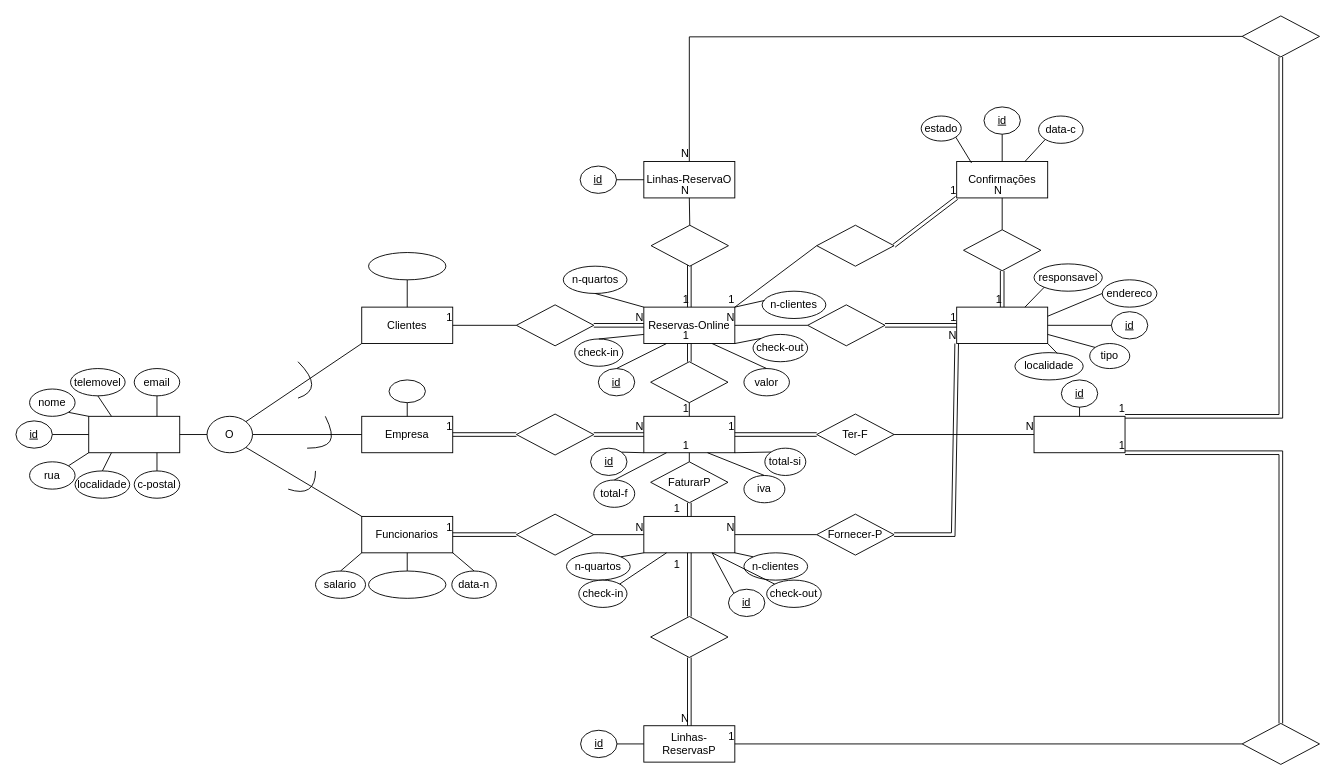
The diagram is 1336 pixels wide and 781 high, and some of its shapes have lost their labels. The shapes that lost their labels are listed below. From the top down, each one's centre as x and y in pixels, then its label:
At [1280,36]: "RegistarO".
At [689,245]: "Ter-RO".
At [855,245]: "Receber".
At [1002,250]: "Confirmar".
At [407,266]: "nome-empresa".
At [555,325]: "Rerservar-O".
At [846,325]: "Fornercer-O".
At [1002,325]: "Fornecedores".
At [406,391]: "sede".
At [689,382]: "FaturarO".
At [134,434]: "Entidade".
At [555,434]: "Pertencer".
At [689,434]: "Fatura".
At [1079,434]: "Linhas-Fatura".
At [555,534]: "Reservar-P".
At [689,534]: "Reservas-Presencial".
At [407,584]: "departamento".
At [689,636]: "Ter-RP".
At [1280,743]: "RegistarP".
